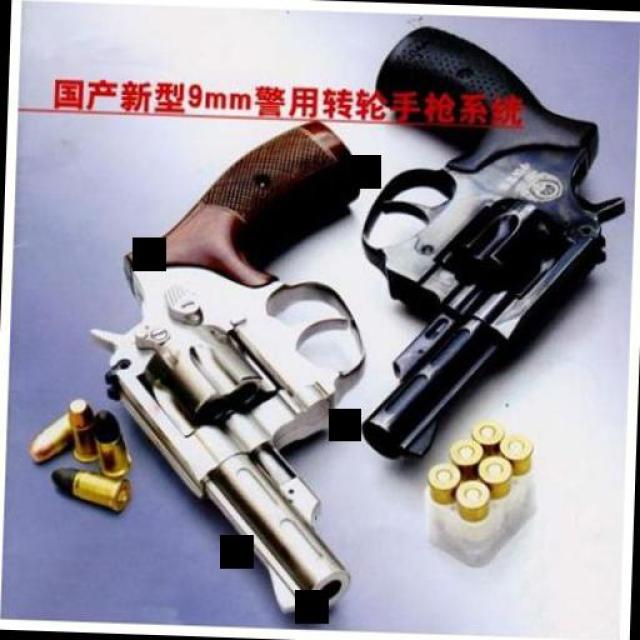gun: (78, 107, 370, 618), (351, 21, 630, 465)
